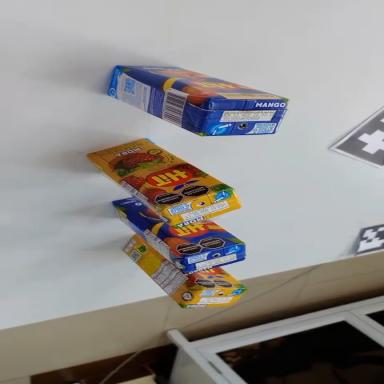HIT-MANGO: (102, 50, 289, 156), (103, 167, 251, 296)
HIT-MORA: (77, 117, 246, 251), (112, 232, 250, 326)
cara_F: (80, 117, 232, 236), (109, 168, 243, 280), (116, 50, 288, 118), (186, 267, 246, 290)
